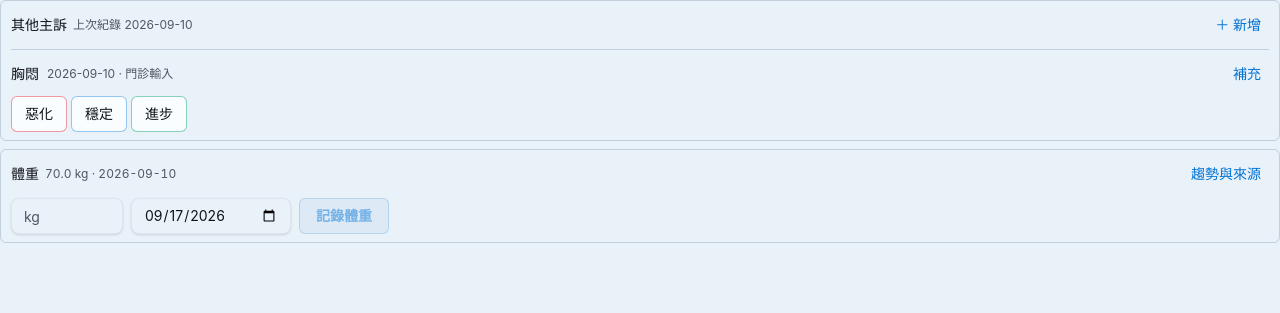
Scenario: on the decision map, leaves 喘 and the weight-change buttons to the questions at the top
Check: the text "其他主訴" is shown, box left=11, top=15, right=67, bottom=35
Check: the text "胸悶" is shown, box left=11, top=64, right=39, bottom=84
What coordinates should you click on to do the following:
click the button with test id "cdss-followup-complaint-add"
I would click on:
 (1238, 25)
Its box is left=1207, top=9, right=1269, bottom=41.
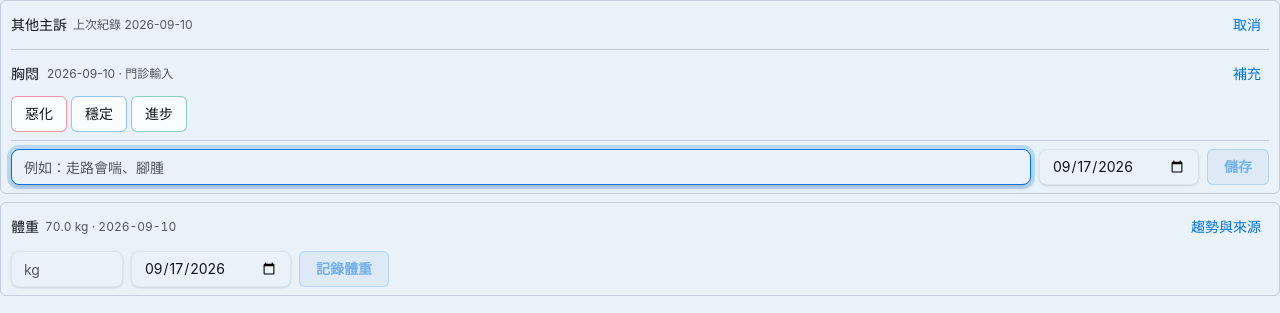
Check: the text with test id "cdss-followup-weight-latest" reads "70.0 kg · 2026-09-10", box left=45, top=219, right=176, bottom=234
Check: the form with test id "cdss-followup-complaint-form" is shown, box left=11, top=140, right=1269, bottom=185
Check: the button "儲存" is disabled, box left=1207, top=149, right=1269, bottom=185
